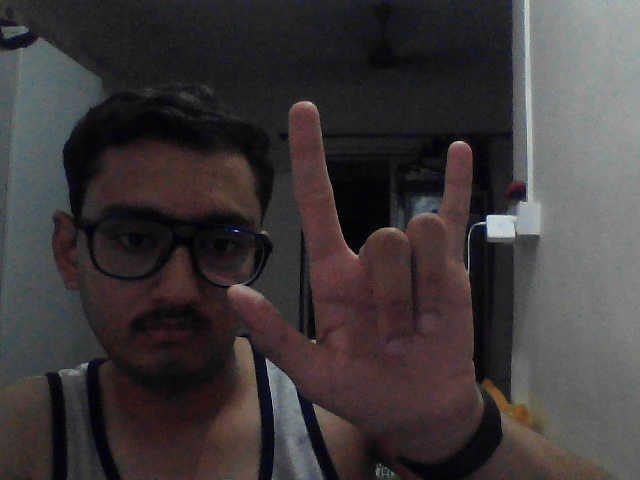I Love You: (220, 93, 497, 441)
